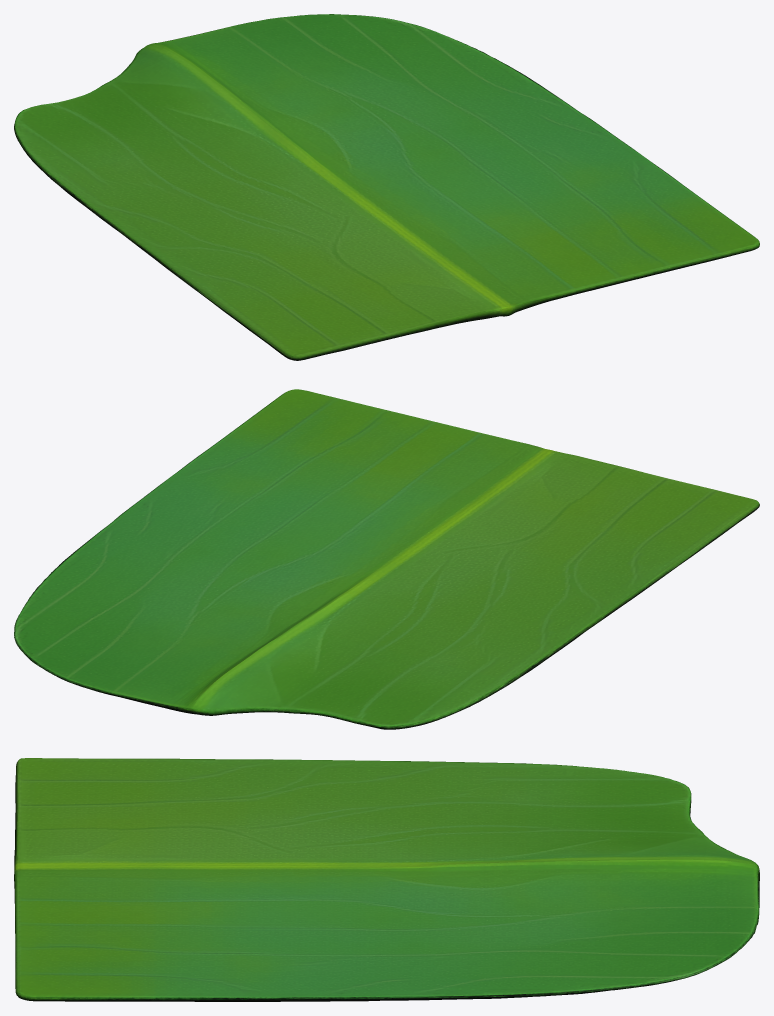
The model's file is daunpisang.glb.
The picture shows the model from 3 angles, top to bottom: view 1: azimuth 30°, elevation 25°; view 2: azimuth 150°, elevation 25°; view 3: azimuth 270°, elevation 25°; orthographic projection. The views are drawn at different scales.
Visible parts, largest first — view 1: world; view 2: world; view 3: world.
Boxes of the visible parts, box(x1,y1,x2,y2) form: world: box(14, 14, 759, 360); world: box(14, 389, 759, 729); world: box(14, 758, 759, 1001).
Bounding box in the file's own units: 0.7611 × 0.0358 × 1.
Materials: 1 (1 with a texture image).
